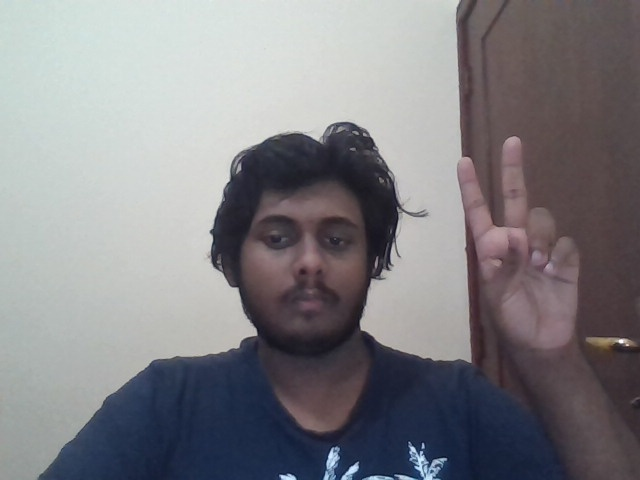peace: (456, 135, 581, 347)
